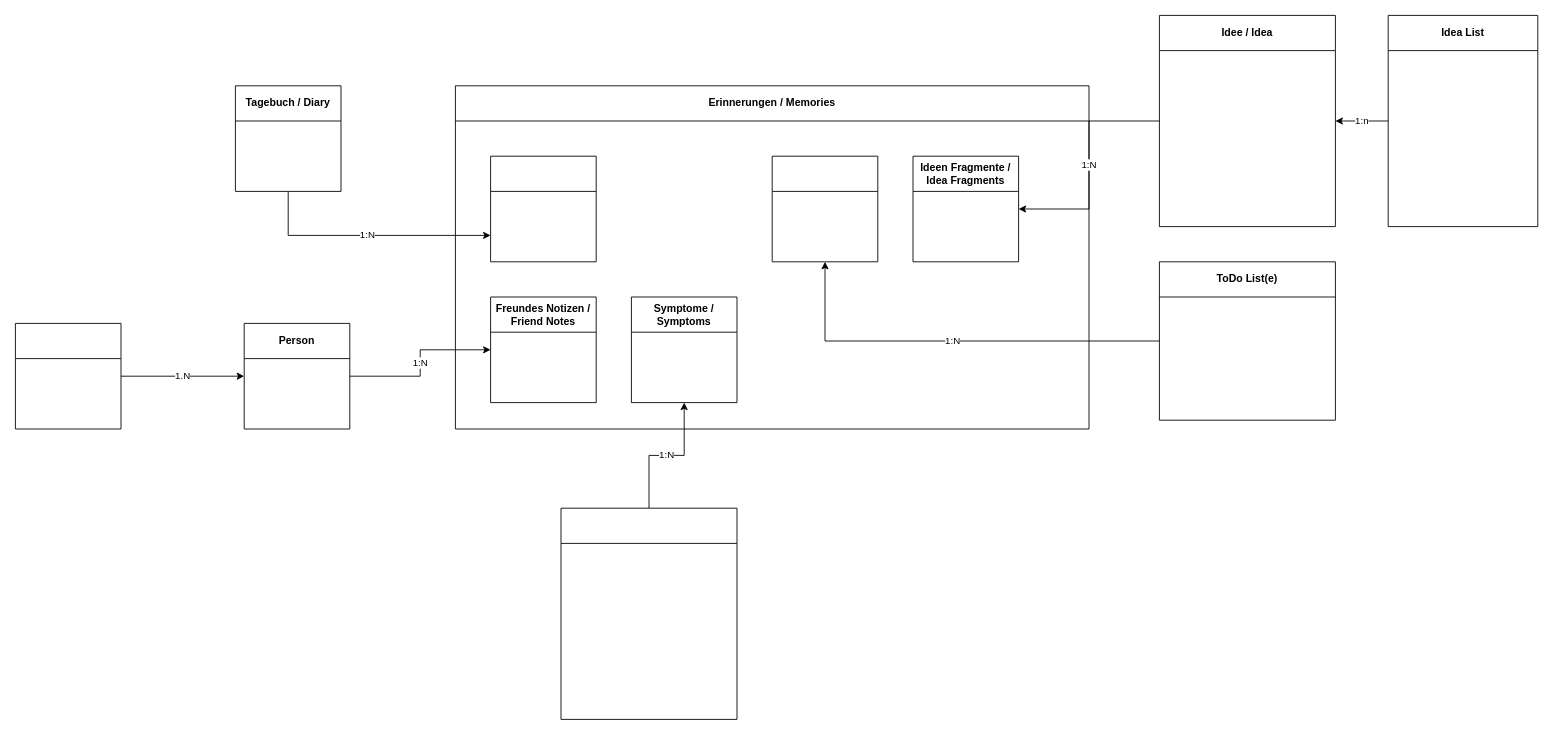
The diagram is 1553 pixels wide and 735 high, and some of its shapes have lost their labels. The shapes that lost their labels are listed below. From the top down, each one's centre as x and y in pixels, then its label:
At (x=543, y=208): "Erlebnisse / Moments".
At (x=824, y=208): "ToDos".
At (x=68, y=376): "Kontake / Contacts".
At (x=648, y=613): "Symptom-Historie / Symptom History".
